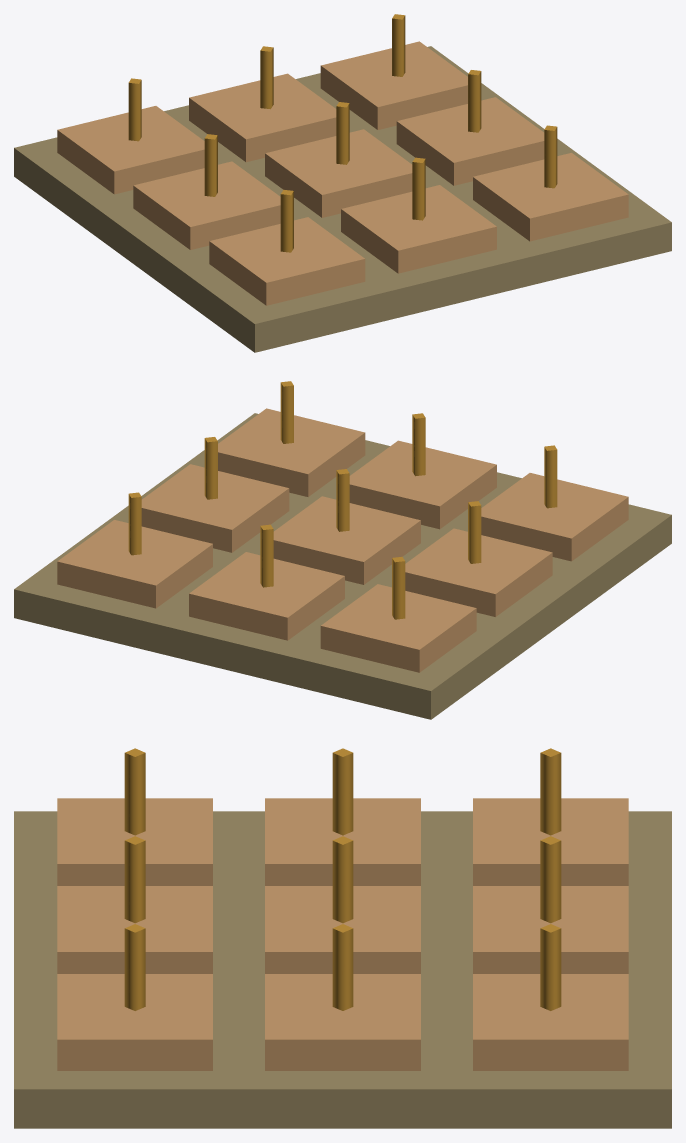
File: node_ling_tian.glb
3 renders of one model, top to bottom at view 1: azimuth 30°, elevation 25°; view 2: azimuth 150°, elevation 25°; view 3: azimuth 270°, elevation 25°, orthographic. The views are drawn at different scales.
Visible parts, largest first — view 1: _MeshInstance3D_285, _MeshInstance3D_300, _MeshInstance3D_302, _MeshInstance3D_298, _MeshInstance3D_286, _MeshInstance3D_292, _MeshInstance3D_294, _MeshInstance3D_296, _MeshInstance3D_288, _MeshInstance3D_290, _MeshInstance3D_301, _MeshInstance3D_287 (+7 smaller); view 2: _MeshInstance3D_285, _MeshInstance3D_288, _MeshInstance3D_290, _MeshInstance3D_286, _MeshInstance3D_298, _MeshInstance3D_292, _MeshInstance3D_294, _MeshInstance3D_296, _MeshInstance3D_300, _MeshInstance3D_302, _MeshInstance3D_289, _MeshInstance3D_287 (+7 smaller); view 3: _MeshInstance3D_285, _MeshInstance3D_290, _MeshInstance3D_302, _MeshInstance3D_296, _MeshInstance3D_294, _MeshInstance3D_286, _MeshInstance3D_288, _MeshInstance3D_298, _MeshInstance3D_300, _MeshInstance3D_292, _MeshInstance3D_295, _MeshInstance3D_287 (+7 smaller).
Boxes of the visible parts, x1,y1,x2,y2 form: _MeshInstance3D_285: (14,46,671,352); _MeshInstance3D_300: (341,185,496,273); _MeshInstance3D_302: (473,153,628,241); _MeshInstance3D_298: (209,217,365,305); _MeshInstance3D_286: (57,106,204,194); _MeshInstance3D_292: (133,161,280,249); _MeshInstance3D_294: (265,129,412,217); _MeshInstance3D_296: (396,97,544,185); _MeshInstance3D_288: (189,73,336,162); _MeshInstance3D_290: (320,41,467,129); _MeshInstance3D_301: (412,157,425,220); _MeshInstance3D_287: (128,78,141,141); _MeshInstance3D_285: (14,413,671,719); _MeshInstance3D_288: (189,552,344,640); _MeshInstance3D_290: (57,520,212,608); _MeshInstance3D_286: (320,584,476,672); _MeshInstance3D_298: (481,473,628,561); _MeshInstance3D_292: (405,528,552,616); _MeshInstance3D_294: (273,496,420,584); _MeshInstance3D_296: (141,464,289,552); _MeshInstance3D_300: (349,440,496,529); _MeshInstance3D_302: (218,408,365,496); _MeshInstance3D_289: (260,524,273,587); _MeshInstance3D_287: (392,556,405,619); _MeshInstance3D_285: (14,811,671,1128); _MeshInstance3D_290: (473,974,628,1070); _MeshInstance3D_302: (57,974,212,1070); _MeshInstance3D_296: (265,974,420,1070); _MeshInstance3D_294: (265,886,420,973); _MeshInstance3D_286: (473,798,628,885); _MeshInstance3D_288: (473,886,628,973); _MeshInstance3D_298: (57,798,212,885); _MeshInstance3D_300: (57,886,212,973); _MeshInstance3D_292: (265,798,420,885); _MeshInstance3D_295: (332,836,353,923); _MeshInstance3D_287: (540,748,561,835).
Bounding box in the file's own units: 0.76 × 0.19 × 0.76.
